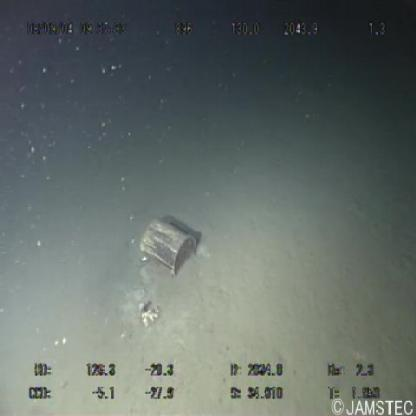Rác: (142, 221, 199, 277)
